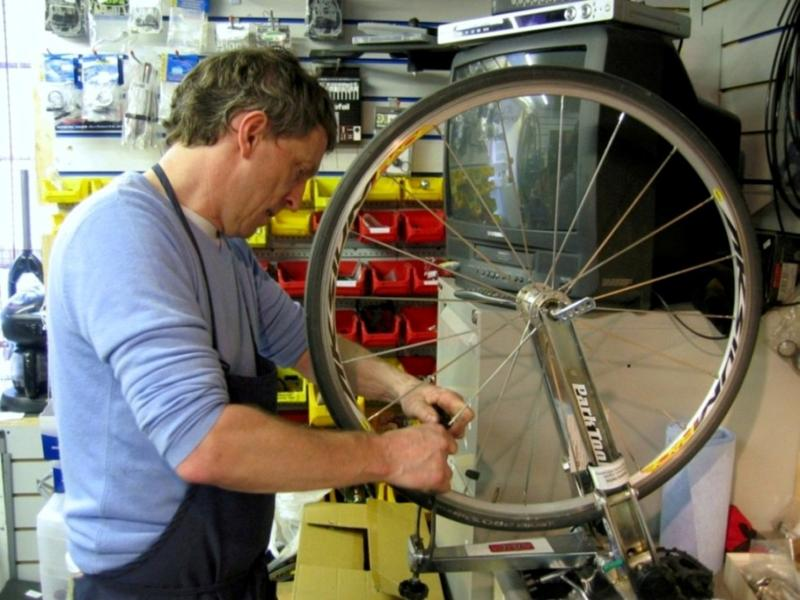person: (47, 47, 473, 599)
